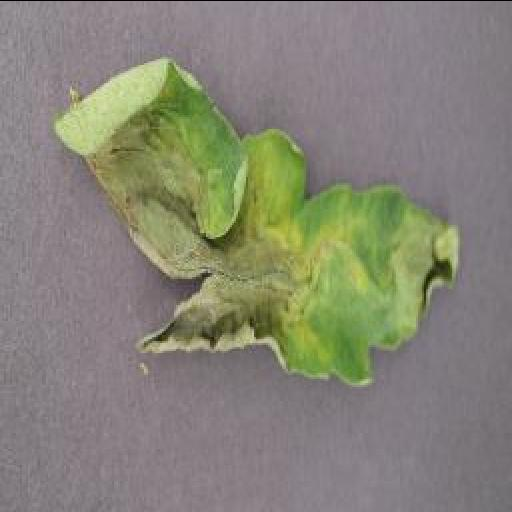disease_tomato: (52, 50, 458, 388)
